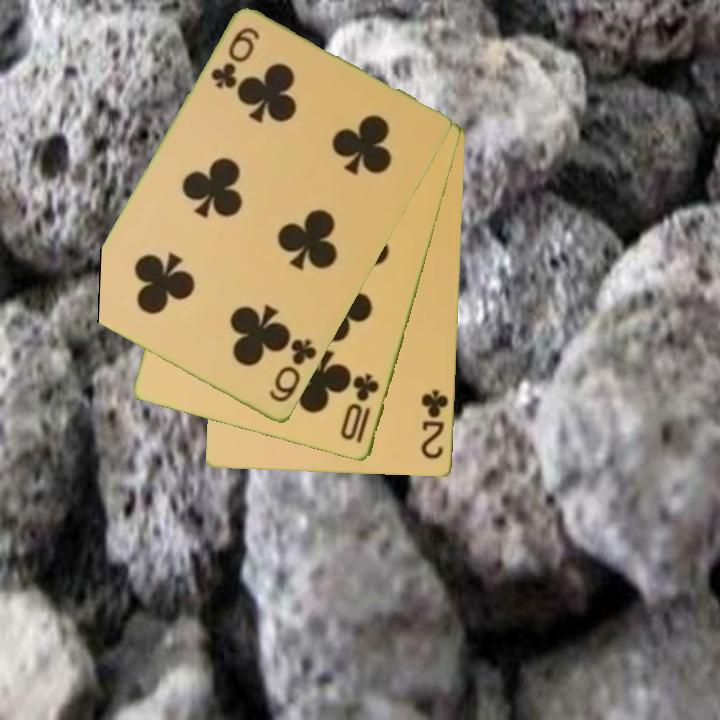10c: (337, 371, 383, 447)
2c: (418, 386, 452, 463)
6c: (265, 335, 320, 406), (207, 24, 263, 93)
